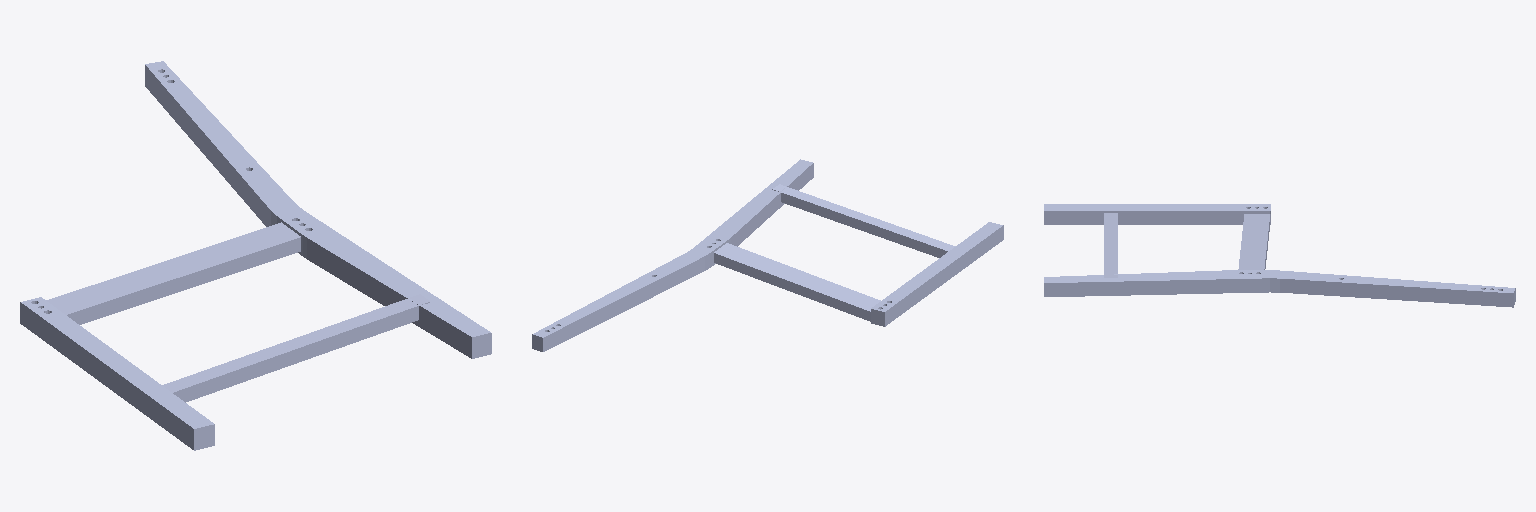
robot.urdf — part5.SLDPRT:
<?xml version="1.0" encoding="utf-8"?>
<!-- This URDF was automatically created by SolidWorks to URDF Exporter! Originally created by [author] ([email redacted]) 
     Commit Version: 1.5.1-0-g916b5db  Build Version: 1.5.7152.31018
     For more information, please see http://wiki.ros.org/sw_urdf_exporter -->
<robot
  name="part5.SLDPRT">
  <link
    name="part5.SLDPRT">
    <inertial>
      <origin
        xyz="0.25069 0.35098 0.021275"
        rpy="0 0 0" />
      <mass
        value="1.8124" />
      <inertia
        ixx="0.085423"
        ixy="0.02825"
        ixz="0.004314"
        iyy="0.051695"
        iyz="0.0019941"
        izz="0.13615" />
    </inertial>
    <visual>
      <origin
        xyz="0 0 0"
        rpy="0 0 0" />
      <geometry>
        <mesh
          filename="package://part5.SLDPRT/meshes/part5.SLDPRT.STL" />
      </geometry>
      <material
        name="">
        <color
          rgba="0.79216 0.81961 0.93333 1" />
        <texture
          filename="package://part5.SLDPRT/textures/" />
      </material>
    </visual>
    <collision>
      <origin
        xyz="0 0 0"
        rpy="0 0 0" />
      <geometry>
        <mesh
          filename="package://part5.SLDPRT/meshes/part5.SLDPRT.STL" />
      </geometry>
    </collision>
  </link>
</robot>

--- Render facts (derived) ---
The picture shows the robot from 3 angles, left to right: view 1: azimuth 30°, elevation 25°; view 2: azimuth 150°, elevation 25°; view 3: azimuth 270°, elevation 25°; orthographic projection.
Model part5.SLDPRT with 1 links and 0 joints (none), rooted at part5.SLDPRT, posed every joint at zero.
Links seen in each view (by area): view 1: part5.SLDPRT; view 2: part5.SLDPRT; view 3: part5.SLDPRT.
Link boxes in pixels (bbox=[...]): part5.SLDPRT: bbox=[20, 61, 491, 450]; part5.SLDPRT: bbox=[532, 159, 1003, 351]; part5.SLDPRT: bbox=[1044, 204, 1515, 307].
Size in the robot's own frame: 0.4763 by 0.906 by 0.0647 metres.
1 mesh visuals loaded from 1 distinct referenced files (1 binary STL).